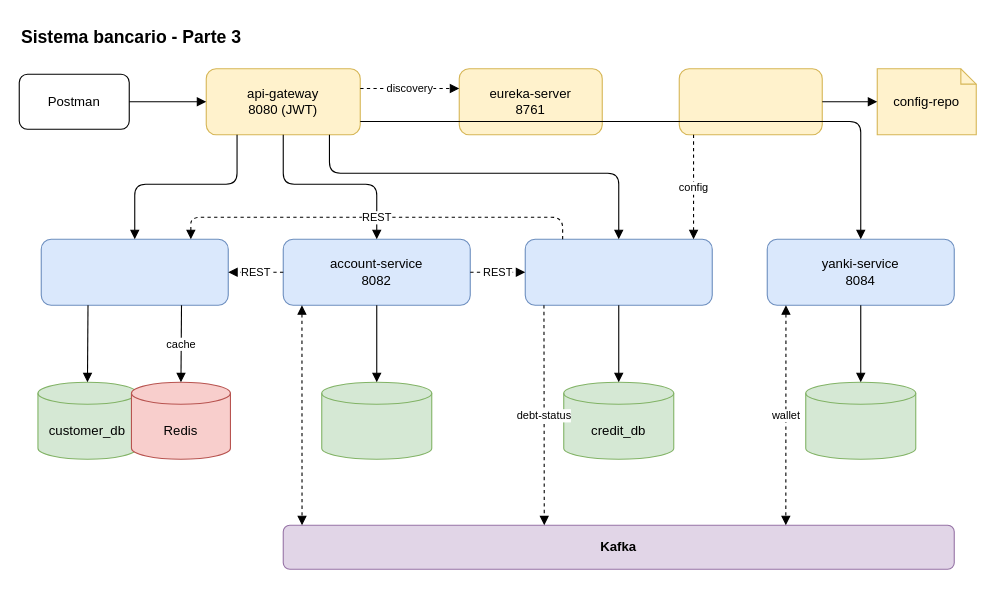
Image size: 996x589. Some labels were removed from this diagram. The shapes that lost their labels are listed below. From the top down, each one's centre as x and y in pixels, then its label:
pixel 750 101: config-server 8888
pixel 134 271: customer-service 8081
pixel 618 271: credit-service 8083
pixel 376 420: account_db
pixel 860 420: yanki_db
